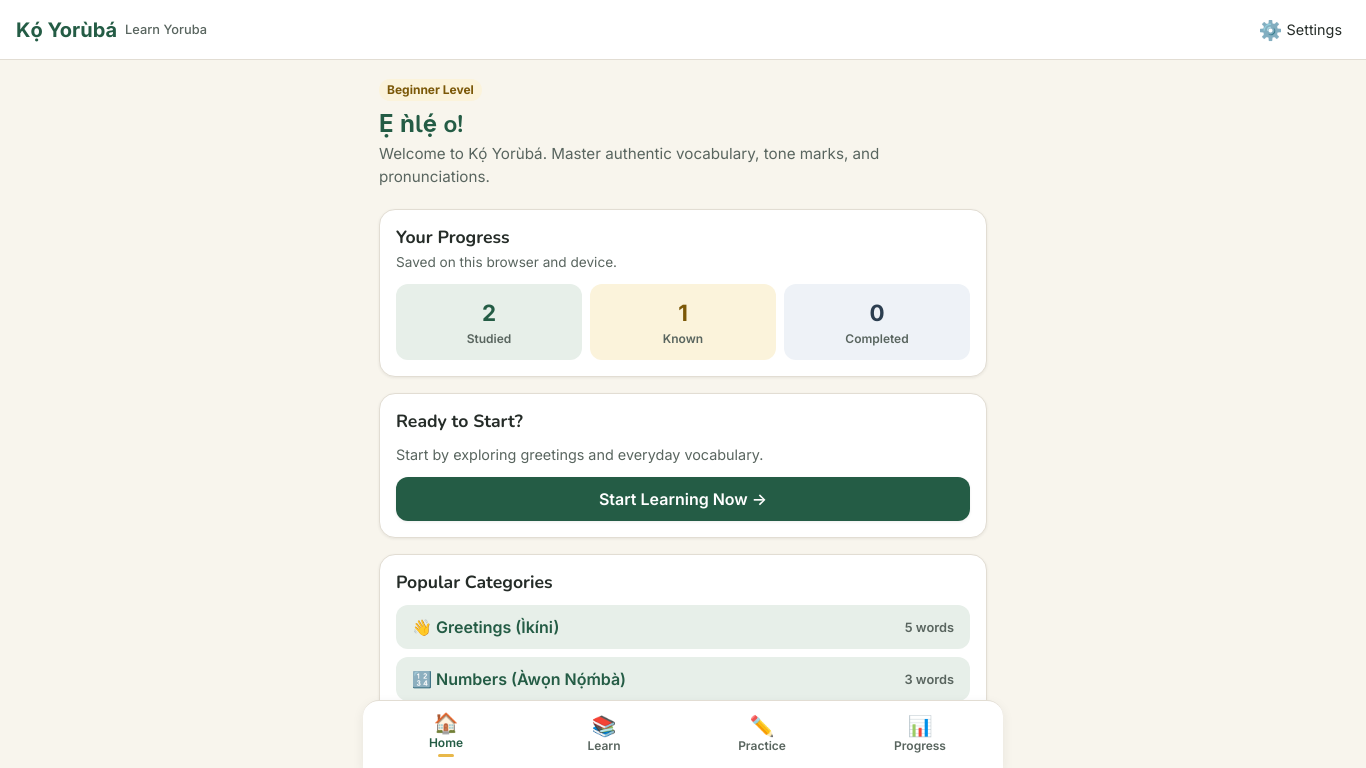
Home Screen Continue Learning and Progress Totals › updates progress numbers accurately after studying and rating words
This screenshot has width=1366, height=768.
Expected: the text "2" is shown, top-left (482, 299), bottom-right (496, 326)
Expected: the text "1" is shown, top-left (678, 299), bottom-right (688, 326)
# Navigate to Progress tab
Step 1. Click the button "📊 Progress" → (920, 734), box top-left (841, 701), bottom-right (999, 767)
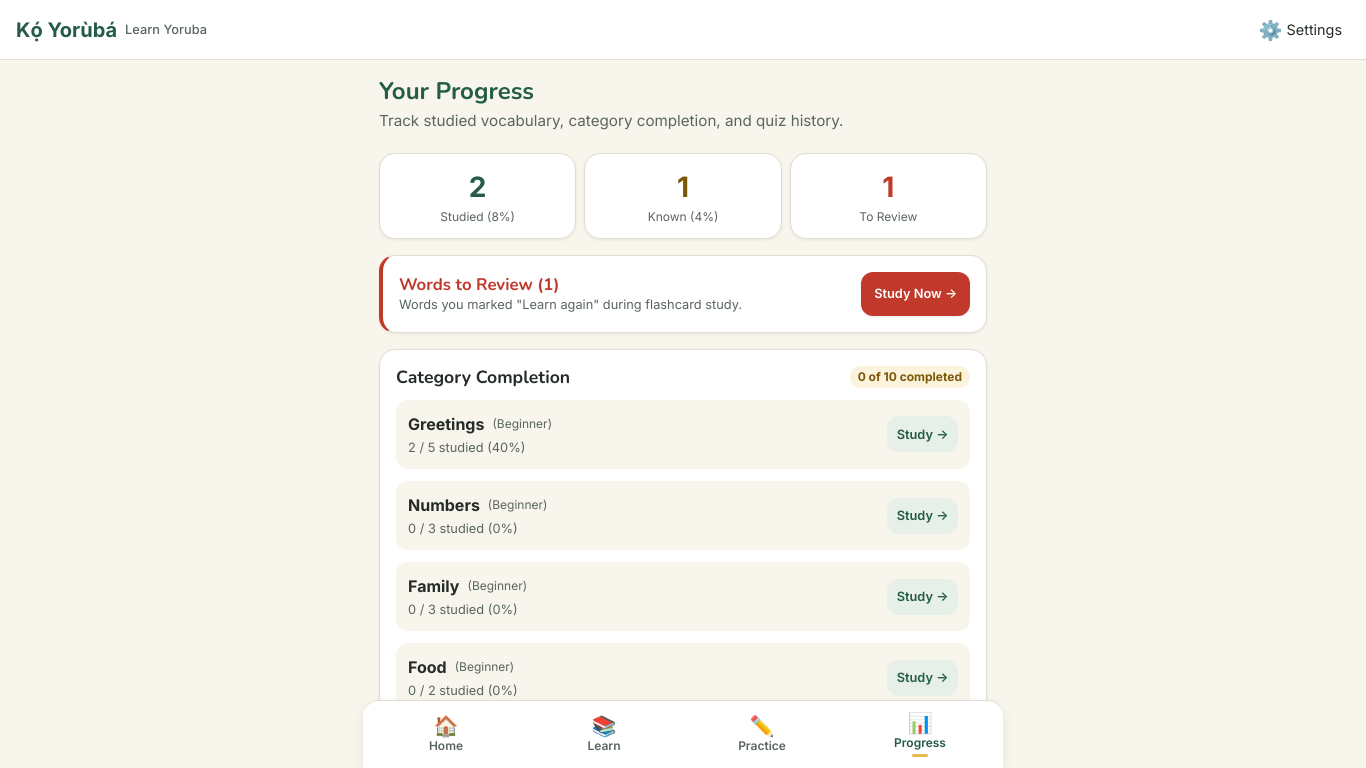
Result: the text "Studied (8%)" is shown at top-left (440, 209), bottom-right (515, 224)
Result: the text "Known (4%)" is shown at top-left (648, 209), bottom-right (718, 224)
